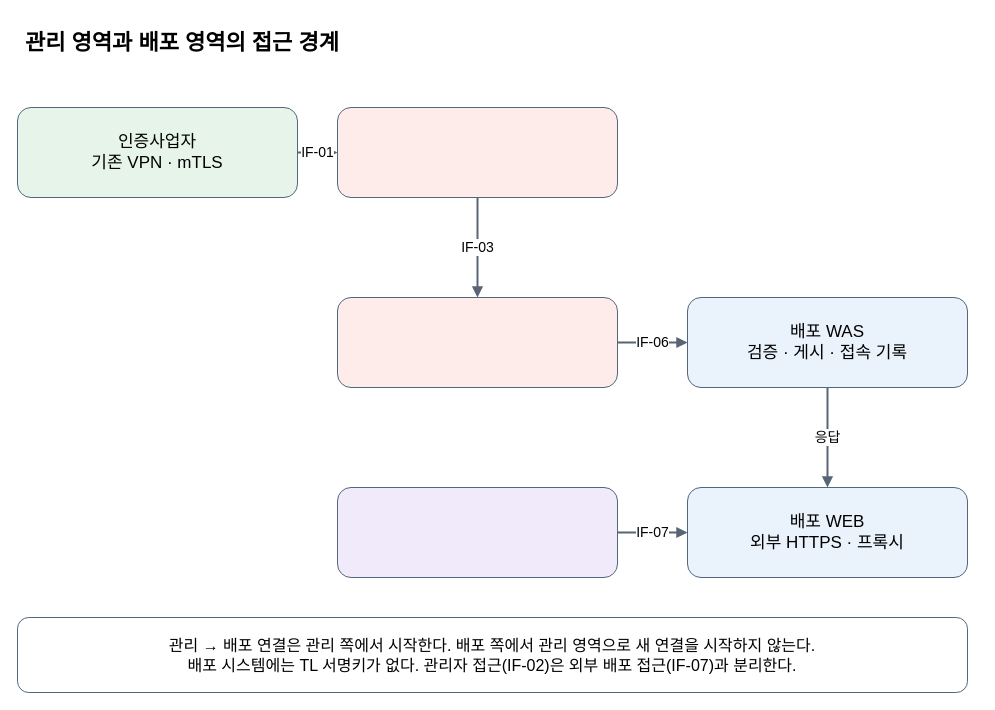
Some shapes in this 995 by 710 pixel diagram are drawn without their labels. The centre of each missing label's shape, as x and y in pixels:
사업자 연계 서버 IF-01 접수 · IF-03 전달: point (477, 152)
신뢰정보 관리 · TL 발행 IF-04 스냅숏 · IF-05 HSM 서명: point (477, 342)
이용기관 · 브라우저 IF-07 요청 시작: point (477, 532)
